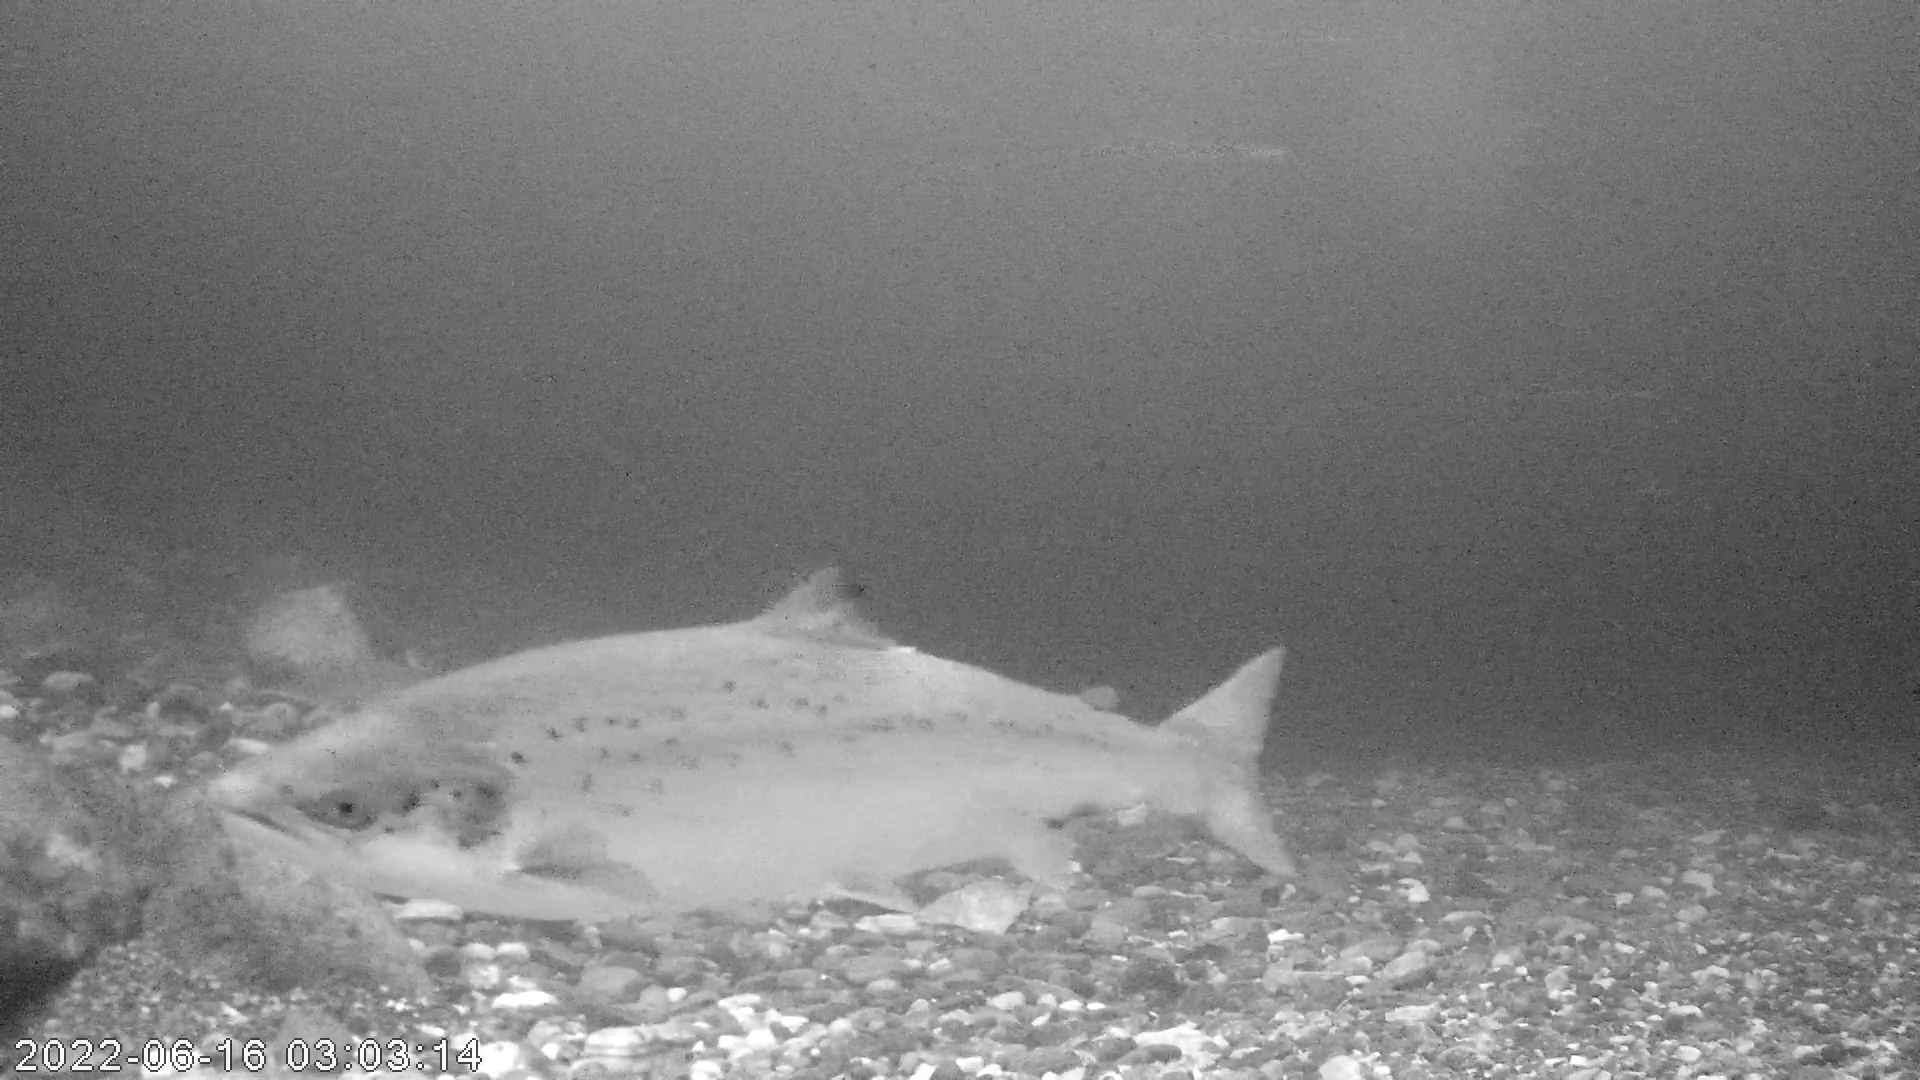salmon: (204, 563, 1302, 923)
